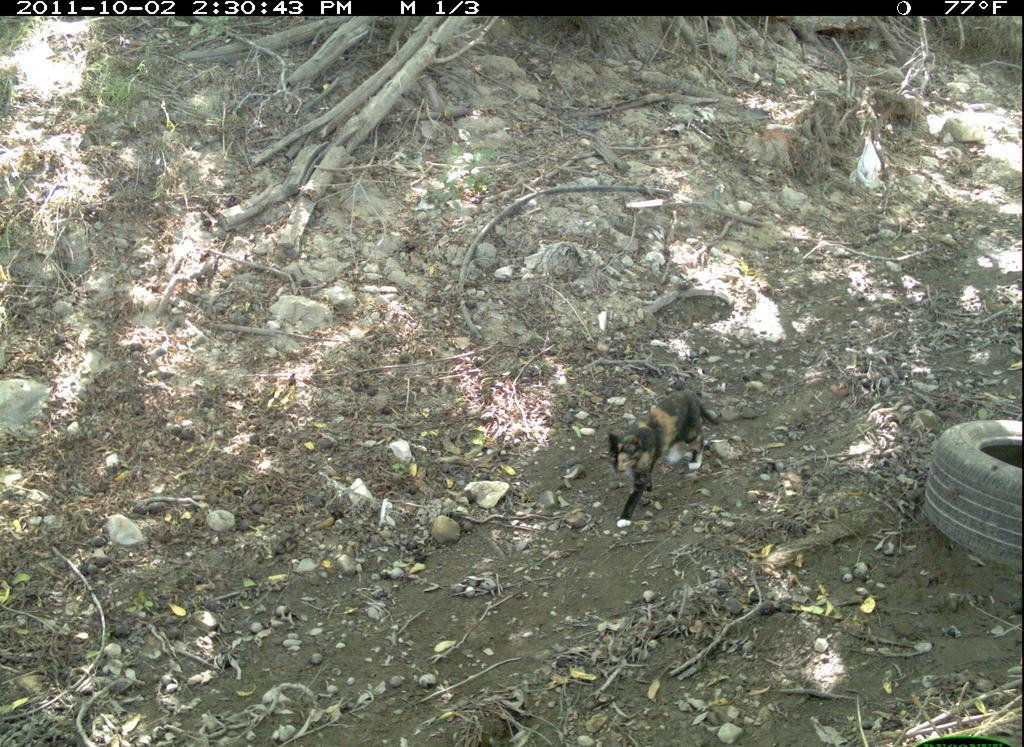cat: (601, 386, 735, 537)
